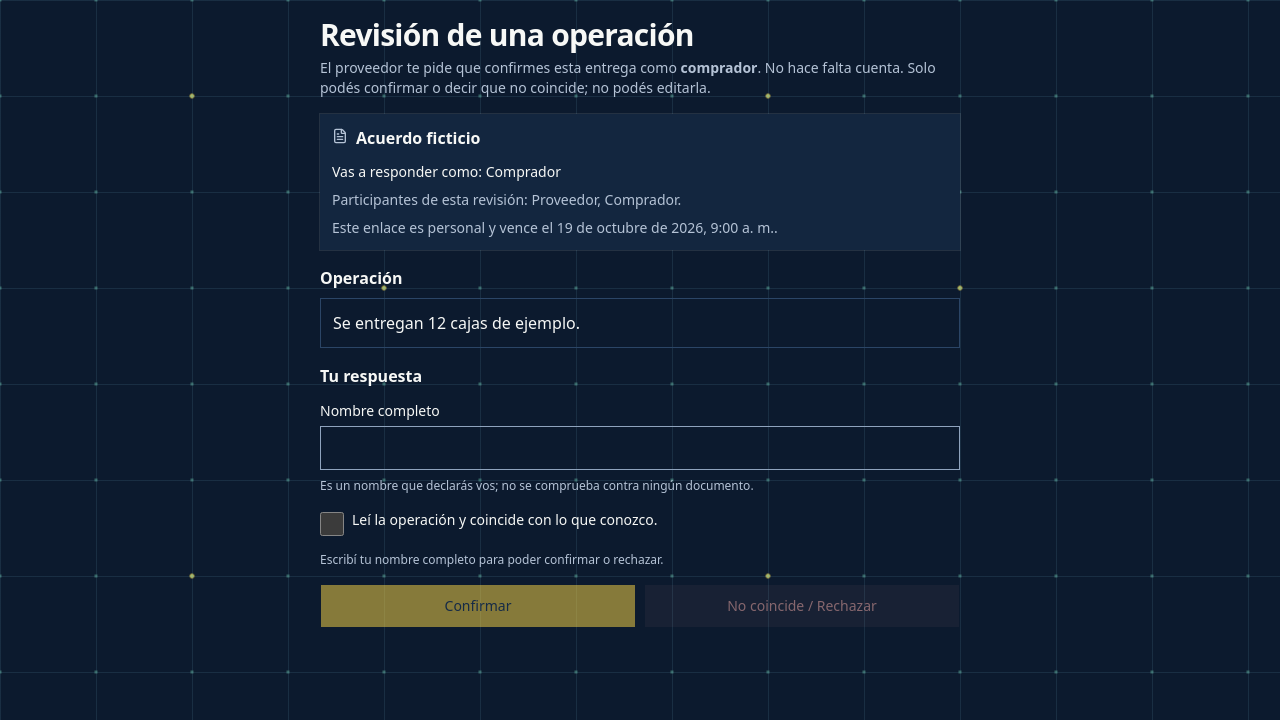
Test: ConfirmationContainer › el rechazo envía casilla vacía y ratificación; cancelar el modal no hace ninguna petición
The image size is (1280, 720).
Type "Juan Pérez" into the field labelled "Nombre completo" at point(640, 448), box [320,426,960,470]
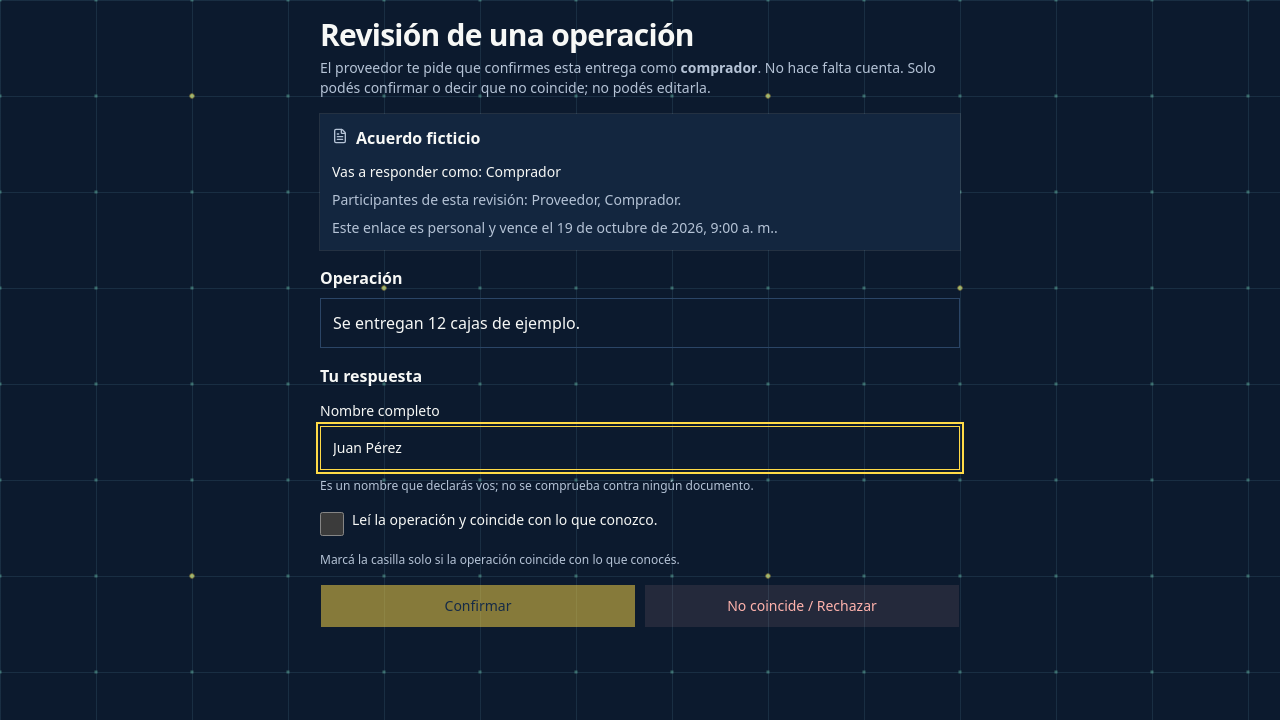
Click the button "No coincide / Rechazar" at point(802, 606), box [644,584,960,628]
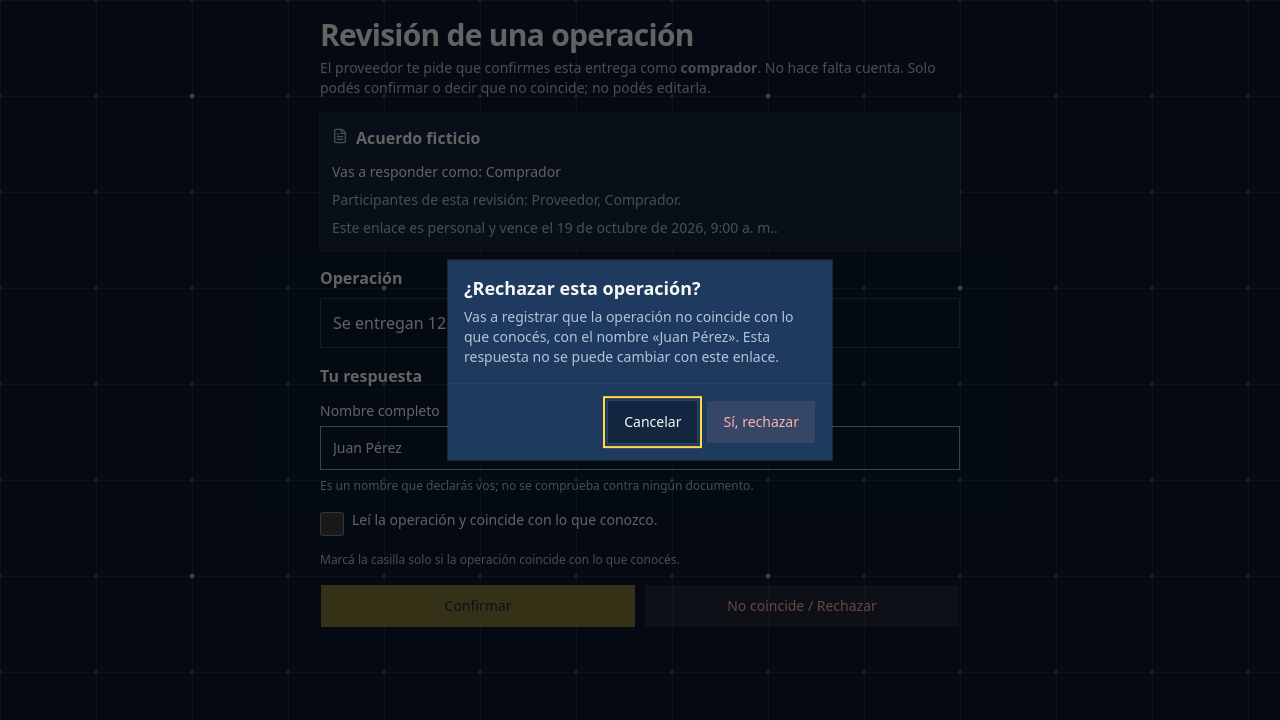
Click the button "Cancelar" at point(653, 422), box [607,400,698,444]
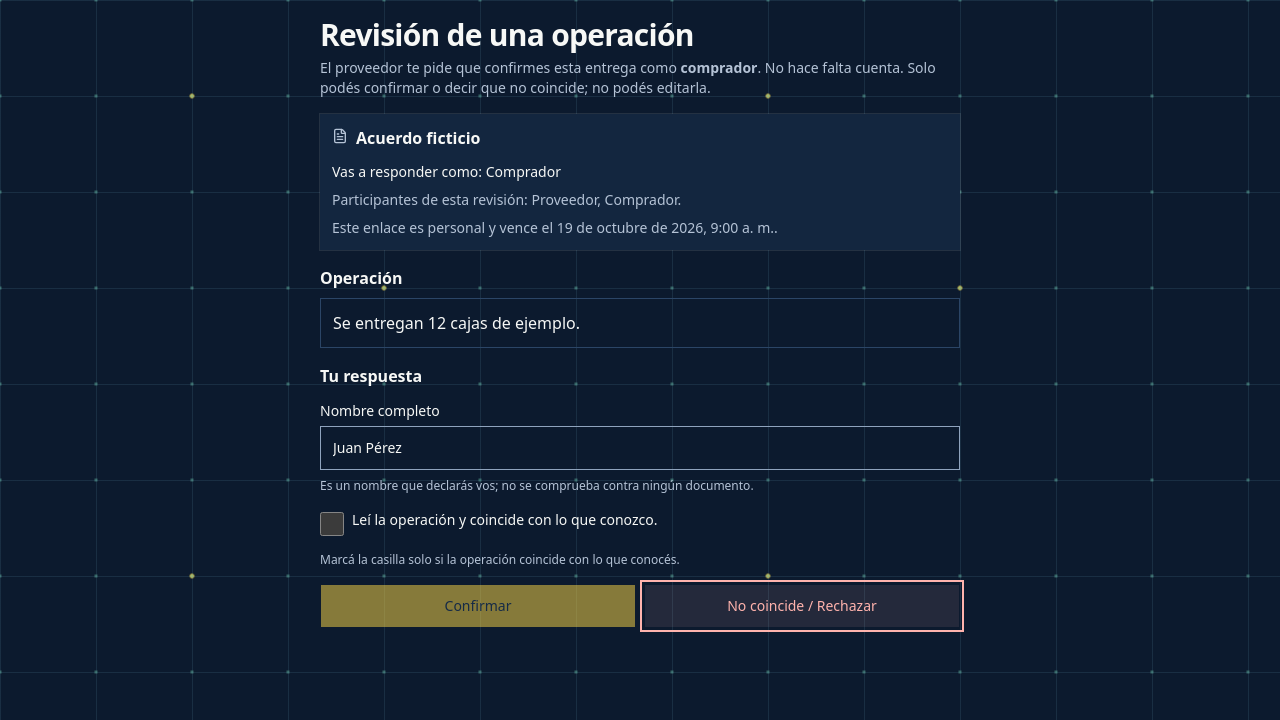
Click the button "No coincide / Rechazar" at point(802, 606), box [644,584,960,628]
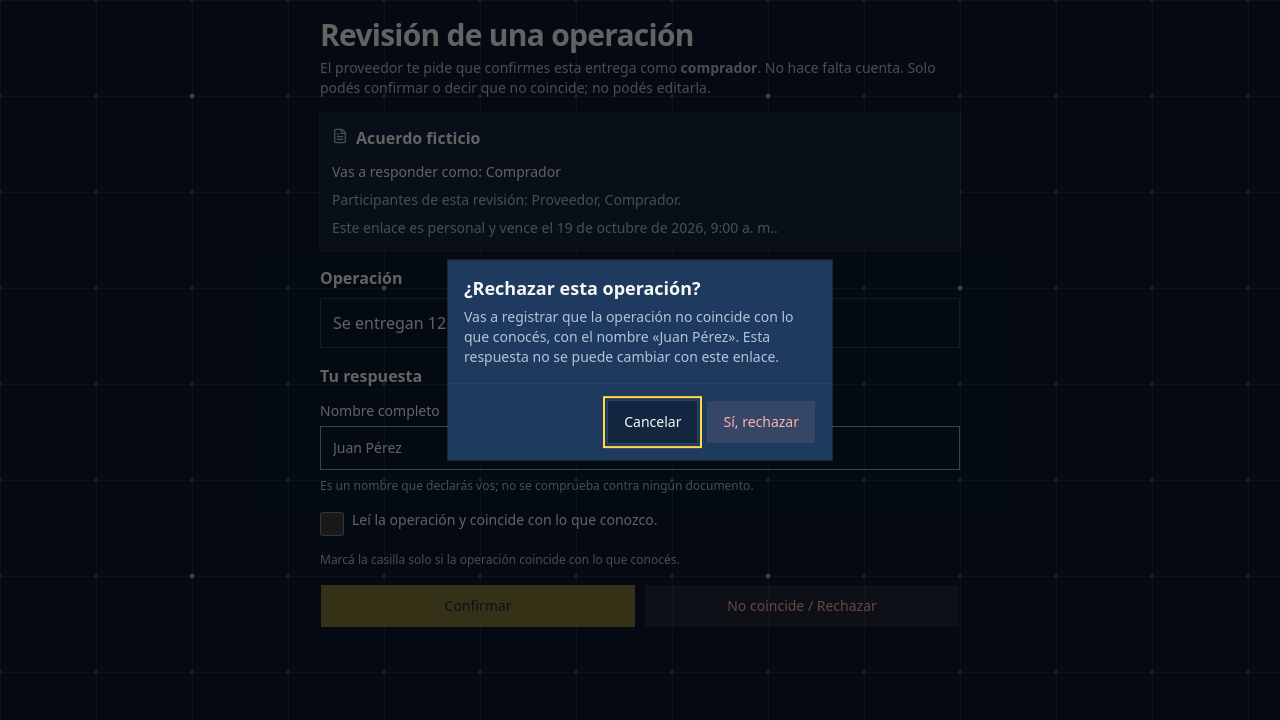
Click the button "Sí, rechazar" at point(761, 422), box [706,400,816,444]
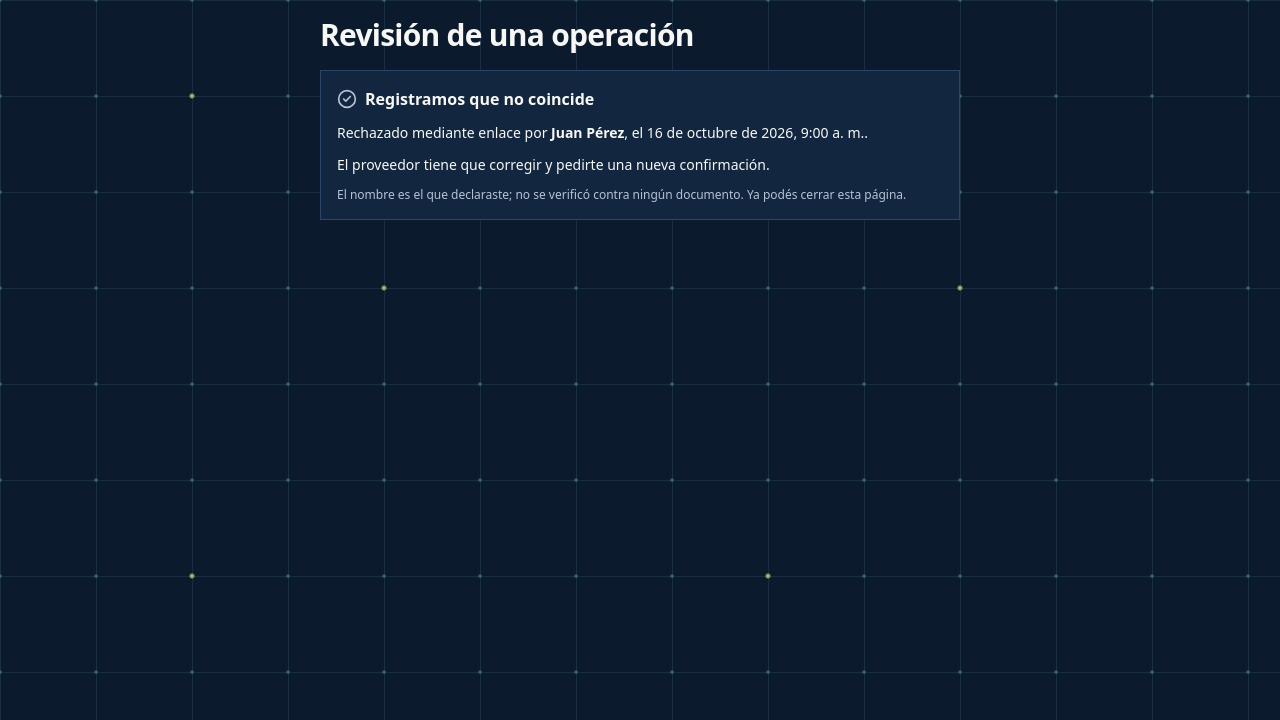
Now the text "Registramos que no coincide" is shown, box [337,88,594,110]
